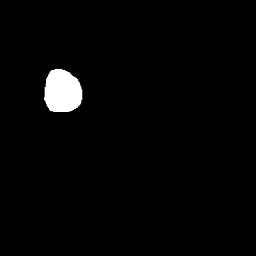mass: (39, 64, 83, 106)
